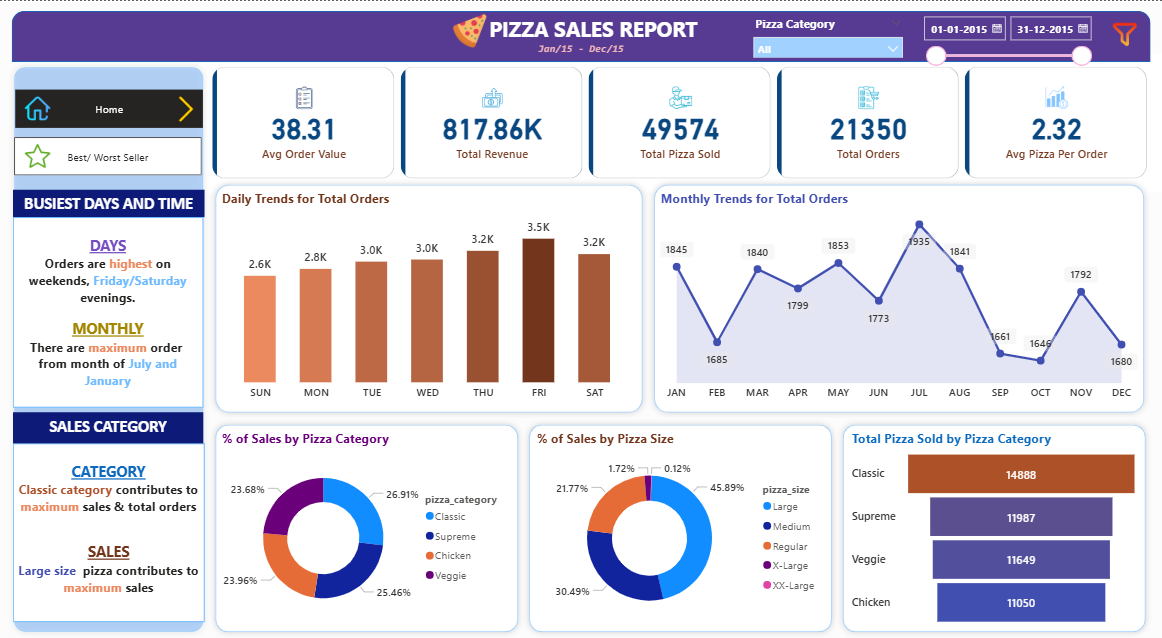

The page's visual inventory and layout, read from the dashboard file:
{"tool":"powerbi","page":{"name":"Home","canvas":[1500,820],"ordinal":0},"visuals":[{"type":"cardVisual","fields":{"Data":["pizza_sales.Avg Order Value","pizza_sales.Total Revenue","pizza_sales.Total Pizza Sold","pizza_sales.Total Orders","pizza_sales.Avg Pizza Per Order"]},"box":[259,68.2,1240.9,178.3],"z":0},{"type":"shape","box":[18.1,12.5,1465.1,65.5],"z":1000},{"type":"textbox","box":[582.1,12.5,367.7,51.5],"z":2000},{"type":"textbox","box":[676.8,46,146.2,36.2],"z":3000},{"type":"image","box":[580.7,16.7,52.9,44.6],"z":4000},{"type":"shape","box":[271.6,228.4,565.4,309.2],"z":5000},{"type":"columnChart","title":"Daily Trends for Total Orders ","fields":{"Category":["pizza_sales.Order Day"],"Y":["pizza_sales.Total Orders"]},"box":[282.7,242.3,540.4,279.9],"z":6000},{"type":"shape","box":[837,228.4,646.2,309.2],"z":7000},{"type":"shape","box":[12.5,78,259,742.3],"z":8000},{"type":"areaChart","title":"Monthly Trends for Total Orders ","fields":{"Category":["pizza_sales.Order Month"],"Y":["pizza_sales.Total Orders"]},"box":[848.1,242.3,623.9,279.9],"z":9000},{"type":"shape","box":[271.6,537.6,405.3,282.7],"z":10000},{"type":"shape","box":[1079.3,537.3,405.3,282.7],"z":11000},{"type":"shape","box":[675.4,537.3,405.3,282.7],"z":12000},{"type":"donutChart","title":"% of Sales by Pizza Category","fields":{"Category":["pizza_sales.pizza_category"],"Y":["pizza_sales.Total Revenue"]},"box":[282.7,551.5,380.2,257.6],"z":13000},{"type":"donutChart","title":"% of Sales by Pizza Size","fields":{"Category":["pizza_sales.pizza_size"],"Y":["pizza_sales.Total Revenue"]},"box":[688,551.5,380.2,257.6],"z":14000},{"type":"funnel","title":"Total Pizza Sold by Pizza Category","fields":{"Category":["pizza_sales.pizza_category"],"Y":["pizza_sales.Total Pizza Sold"]},"box":[1093.2,551.5,378.8,257.6],"z":15000},{"type":"textbox","box":[19.3,569.3,246,230],"z":16000},{"type":"textbox","box":[19.3,529.1,244.4,40.2],"z":17000},{"type":"textbox","box":[19.3,242.8,246,35.4],"z":18000},{"type":"textbox","box":[19.3,278.2,244.4,244.4],"z":19000},{"type":"slicer","fields":{"Values":["pizza_sales.pizza_category"]},"box":[961.5,13.8,212.3,58.5],"z":20000},{"type":"slicer","fields":{"Values":["pizza_sales.order_date"]},"box":[1178.5,9.2,236.9,73.8],"z":21000},{"type":"pageNavigator","box":[22.5,114.2,241.2,49.9],"z":22000},{"type":"pageNavigator","box":[20.9,175.3,241.2,49.9],"z":23000},{"type":"image","box":[224.6,116.9,33.8,43.1],"z":24000},{"type":"image","box":[1426.2,21.5,46.2,43.1],"z":25000},{"type":"image","box":[24.6,121.5,53.8,32.3],"z":26000},{"type":"image","box":[24.6,183.1,53.8,32.3],"z":27000}]}

Visuals, with their boxes in screenshot pixels (x1, y1, x2, y2), scaled from the page's 1500x820 canvas onto the 1162x638 screenshot:
cardVisual - pizza_sales.Avg Order Value x pizza_sales.Total Revenue: x1=201, y1=53, x2=1161, y2=192
shape: x1=14, y1=10, x2=1149, y2=61
textbox: x1=451, y1=10, x2=736, y2=50
textbox: x1=524, y1=36, x2=638, y2=64
image: x1=450, y1=13, x2=491, y2=48
shape: x1=210, y1=178, x2=648, y2=418
"Daily Trends for Total Orders " columnChart: x1=219, y1=189, x2=638, y2=406
shape: x1=648, y1=178, x2=1149, y2=418
shape: x1=10, y1=61, x2=210, y2=637
"Monthly Trends for Total Orders " areaChart: x1=657, y1=189, x2=1140, y2=406
shape: x1=210, y1=418, x2=524, y2=637
shape: x1=836, y1=418, x2=1150, y2=637
shape: x1=523, y1=418, x2=837, y2=637
"% of Sales by Pizza Category" donutChart: x1=219, y1=429, x2=514, y2=630
"% of Sales by Pizza Size" donutChart: x1=533, y1=429, x2=827, y2=630
"Total Pizza Sold by Pizza Category" funnel: x1=847, y1=429, x2=1140, y2=630
textbox: x1=15, y1=443, x2=206, y2=622
textbox: x1=15, y1=412, x2=204, y2=443
textbox: x1=15, y1=189, x2=206, y2=216
textbox: x1=15, y1=216, x2=204, y2=407
slicer - pizza_sales.pizza_category: x1=745, y1=11, x2=909, y2=56
slicer - pizza_sales.order_date: x1=913, y1=7, x2=1096, y2=65
pageNavigator: x1=17, y1=89, x2=204, y2=128
pageNavigator: x1=16, y1=136, x2=203, y2=175
image: x1=174, y1=91, x2=200, y2=124
image: x1=1105, y1=17, x2=1141, y2=50
image: x1=19, y1=95, x2=61, y2=120
image: x1=19, y1=142, x2=61, y2=168
